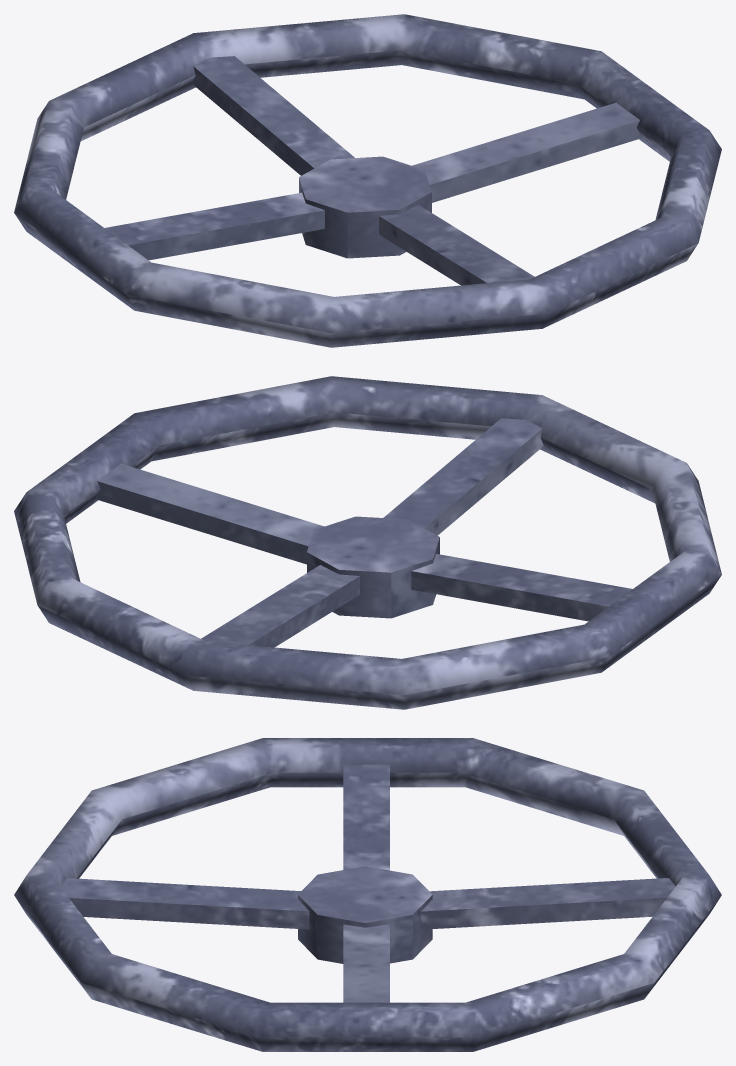
The model's file is wheel_blue.FBX.
3 views of the same model, one above another, from view 1: azimuth 30°, elevation 25°; view 2: azimuth 150°, elevation 25°; view 3: azimuth 270°, elevation 25° (orthographic). The views are drawn at different scales.
Parts seen in each view (by area): view 1: Cylinder027; view 2: Cylinder027; view 3: Cylinder027.
Part boxes in pixels (x1,y1,x2,y2): Cylinder027: (14,14,721,347); Cylinder027: (14,376,721,709); Cylinder027: (14,738,721,1051).
Bounding box in the file's own units: 36.95 × 4 × 38.85.
